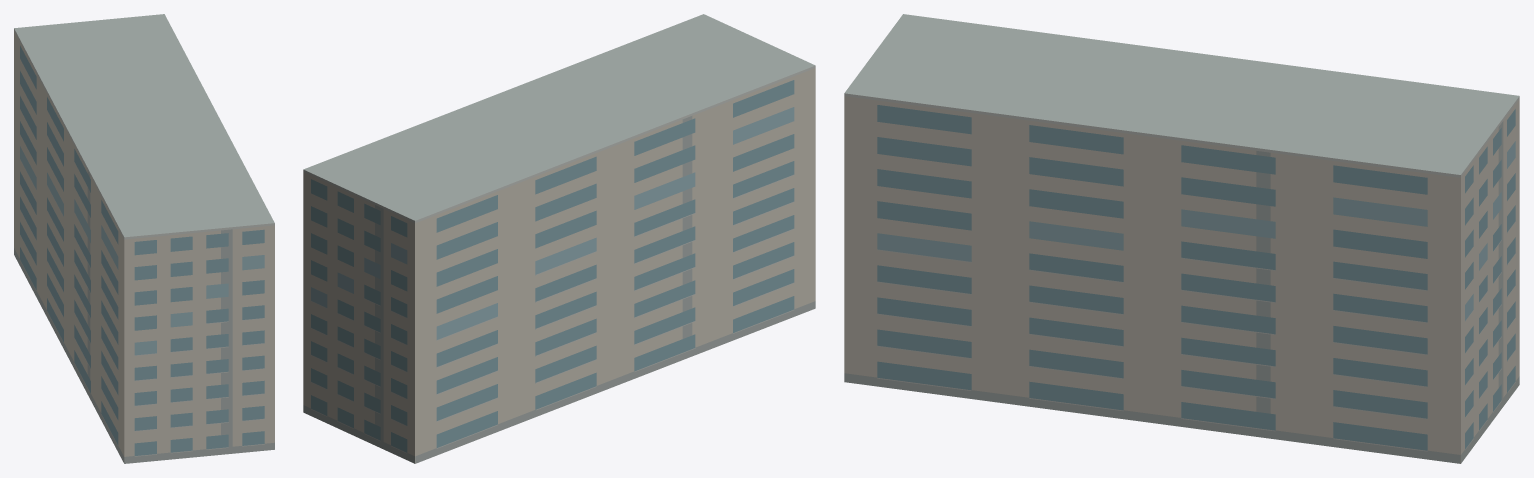
The model's file is residential-5b0fcac2-1ec5-4ab7-9dc0-248018f9ec8d.glb.
The picture shows the model from 3 angles, left to right: view 1: azimuth 30°, elevation 25°; view 2: azimuth 150°, elevation 25°; view 3: azimuth 270°, elevation 25°; orthographic projection. The views are drawn at different scales.
Parts seen in each view (by area): view 1: residential-5b0fcac2-1ec5-4ab7-9dc0-248018f9ec8d.tmp; view 2: residential-5b0fcac2-1ec5-4ab7-9dc0-248018f9ec8d.tmp; view 3: residential-5b0fcac2-1ec5-4ab7-9dc0-248018f9ec8d.tmp.
Boxes of the visible parts, x1=… form: residential-5b0fcac2-1ec5-4ab7-9dc0-248018f9ec8d.tmp: x1=14, y1=14, x2=274, y2=463; residential-5b0fcac2-1ec5-4ab7-9dc0-248018f9ec8d.tmp: x1=303, y1=14, x2=815, y2=463; residential-5b0fcac2-1ec5-4ab7-9dc0-248018f9ec8d.tmp: x1=844, y1=14, x2=1519, y2=463.
Size of the model in its own units: 29.92 by 25 by 53.
